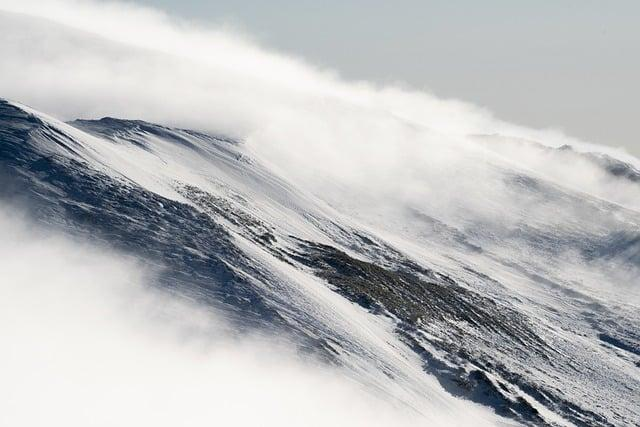Non_Gorille: (86, 29, 580, 402)
